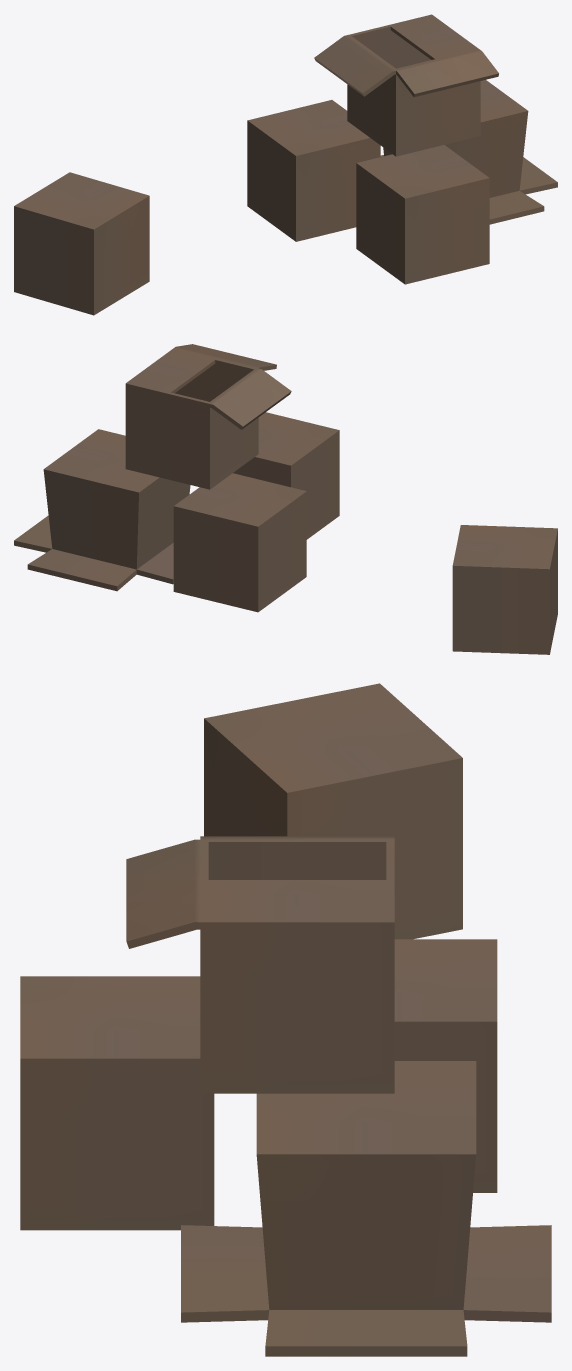
The model's file is box_pile_M.fbx.
The picture shows the model from 3 angles, top to bottom: view 1: azimuth 30°, elevation 25°; view 2: azimuth 150°, elevation 25°; view 3: azimuth 270°, elevation 25°; orthographic projection. The views are drawn at different scales.
Parts seen in each view (by area): view 1: box_pile_M; view 2: box_pile_M; view 3: box_pile_M.
Part boxes in pixels (left/top/right/bottom): box_pile_M: left=14, top=14, right=557, bottom=315; box_pile_M: left=14, top=344, right=557, bottom=654; box_pile_M: left=20, top=683, right=551, bottom=1356.
Bounding box in the file's own units: 493 × 158 × 221.
